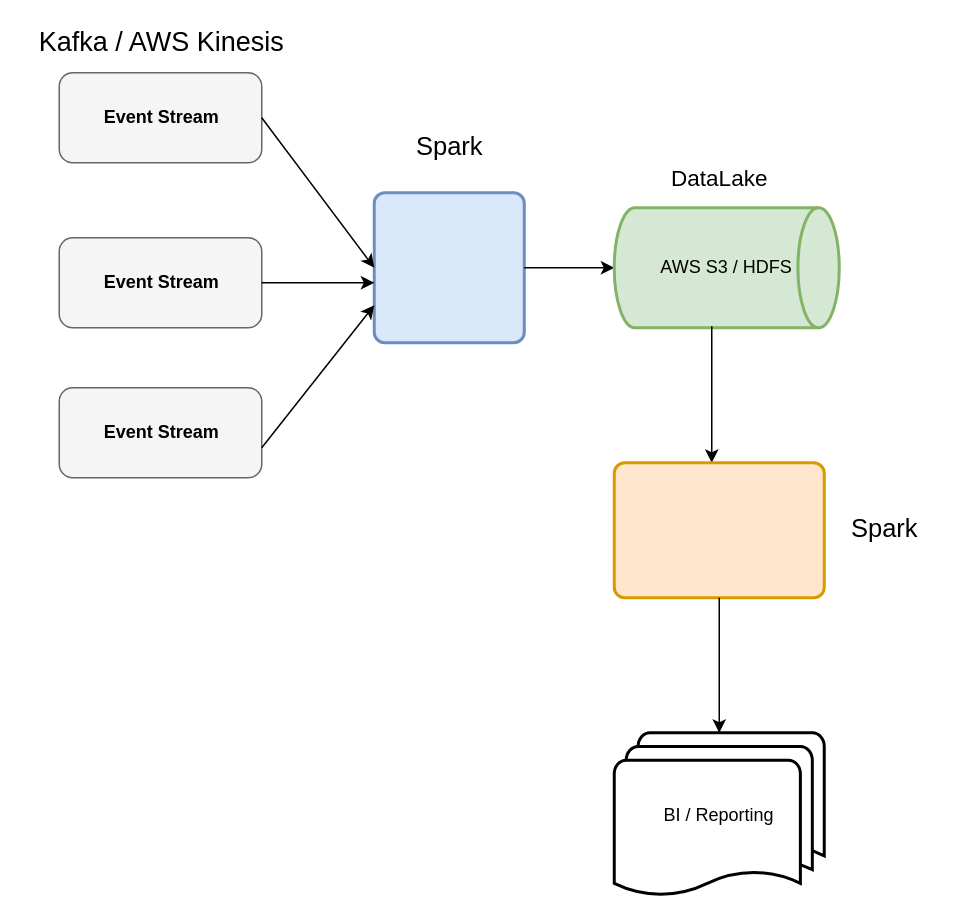
This 956x924 diagram has some shape labels left out. The box of each missing label's shape, as (x1, y1, x2, y2) in pixels:
Compute Metrics: (612, 460, 825, 598)
Staging Layer: (372, 190, 525, 344)
